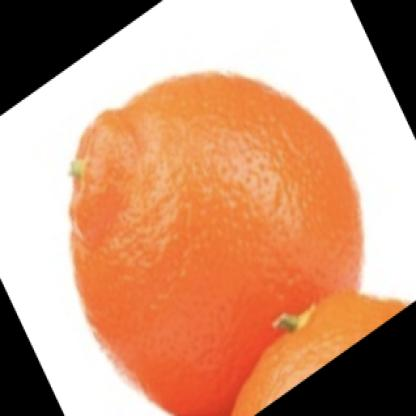fresh: (71, 68, 365, 416)
